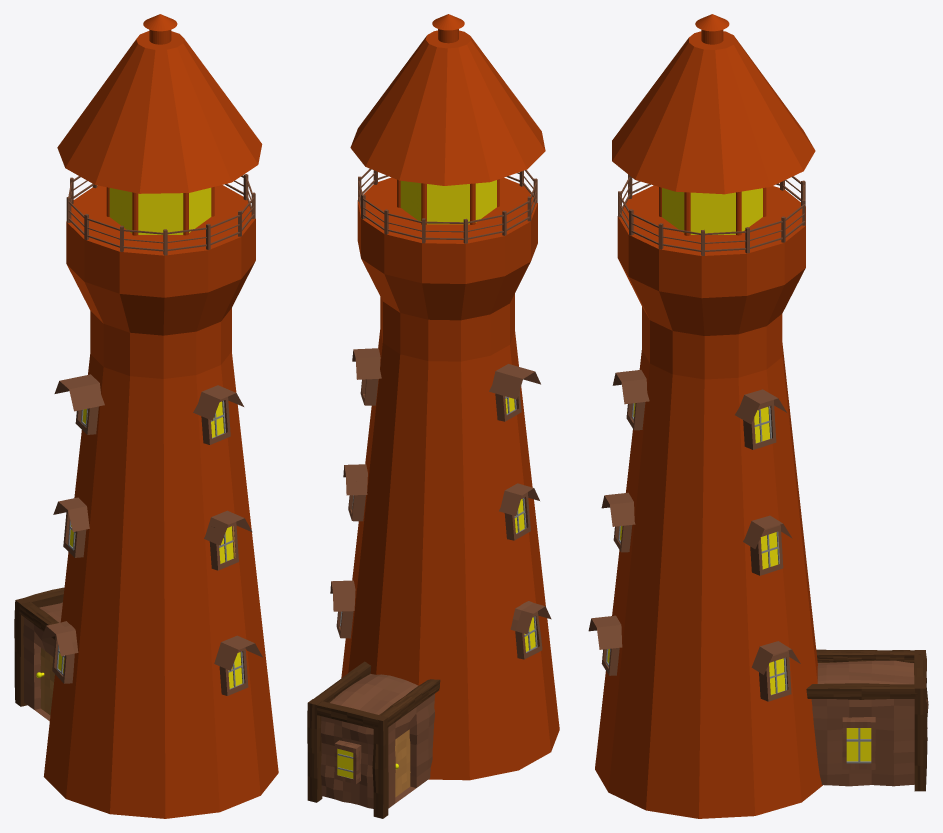
The model's file is Beginning light house.glb.
3 renders of one model, left to right at view 1: azimuth 30°, elevation 25°; view 2: azimuth 150°, elevation 25°; view 3: azimuth 270°, elevation 25°, orthographic. The views are drawn at different scales.
Visible parts, largest first — view 1: Cylinder.001, Cylinder, Cylinder.003, Cylinder.002, Cube.148, Cylinder.017, Cube.137, Cylinder.018, Cylinder.014, Cylinder.013, Cylinder.009, Plane (+8 smaller); view 2: Cylinder.001, Cylinder, Cylinder.003, Cube.148, Cylinder.002, Cube.137, Cube.077, Cylinder.017, Cube, Cube.147, Plane, Cylinder.019 (+8 smaller); view 3: Cylinder.001, Cylinder, Cylinder.003, Cube.148, Cylinder.002, Cube.146, Cube.077, Cube, Cube.144, Cylinder.018, Cylinder.014, Cylinder.013 (+7 smaller).
Part boxes in pixels (left/top/right/bottom): Cylinder.001: left=43, top=351, right=278, bottom=818; Cylinder: left=66, top=185, right=255, bottom=378; Cylinder.003: left=57, top=31, right=262, bottom=193; Cylinder.002: left=109, top=187, right=211, bottom=234; Cube.148: left=23, top=602, right=62, bottom=721; Cylinder.017: left=54, top=374, right=104, bottom=411; Cube.137: left=14, top=597, right=30, bottom=706; Cylinder.018: left=193, top=385, right=243, bottom=420; Cylinder.014: left=214, top=635, right=262, bottom=670; Cylinder.013: left=204, top=510, right=252, bottom=545; Cylinder.009: left=41, top=621, right=78, bottom=656; Plane: left=40, top=648, right=54, bottom=715; Cylinder.001: left=341, top=330, right=559, bottom=780; Cylinder: left=357, top=177, right=537, bottom=361; Cylinder.003: left=350, top=30, right=545, bottom=185; Cube.148: left=320, top=674, right=434, bottom=808; Cylinder.002: left=400, top=180, right=496, bottom=224; Cube.137: left=372, top=715, right=388, bottom=818; Cube.077: left=307, top=699, right=322, bottom=802; Cylinder.017: left=489, top=364, right=540, bottom=399; Cube: left=378, top=679, right=440, bottom=727; Cube.147: left=316, top=701, right=378, bottom=729; Plane: left=395, top=729, right=410, bottom=797; Cylinder.019: left=352, top=348, right=381, bottom=379; Cylinder.001: left=595, top=343, right=822, bottom=818; Cylinder: left=617, top=185, right=805, bottom=379; Cylinder.003: left=612, top=31, right=815, bottom=194; Cube.148: left=811, top=660, right=914, bottom=786; Cylinder.002: left=662, top=188, right=762, bottom=234; Cube.146: left=806, top=683, right=917, bottom=699; Cube.077: left=914, top=684, right=927, bottom=791; Cube: left=816, top=649, right=918, bottom=662; Cube.144: left=842, top=717, right=876, bottom=769; Cylinder.018: left=612, top=370, right=649, bottom=404; Cylinder.014: left=588, top=615, right=622, bottom=649; Cylinder.013: left=601, top=492, right=635, bottom=526.
Bounding box in the file's own units: 6.51 × 22.84 × 9.29.
